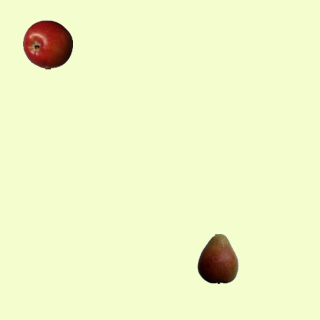Apple Braeburn: (22, 19, 72, 69)
Pear Forelle: (192, 233, 242, 283)
